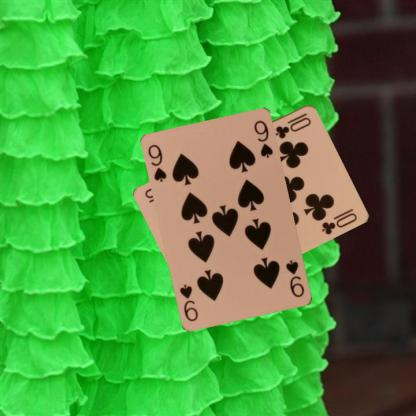10c: (272, 110, 313, 140)
9s: (146, 142, 168, 184), (283, 258, 306, 298)
